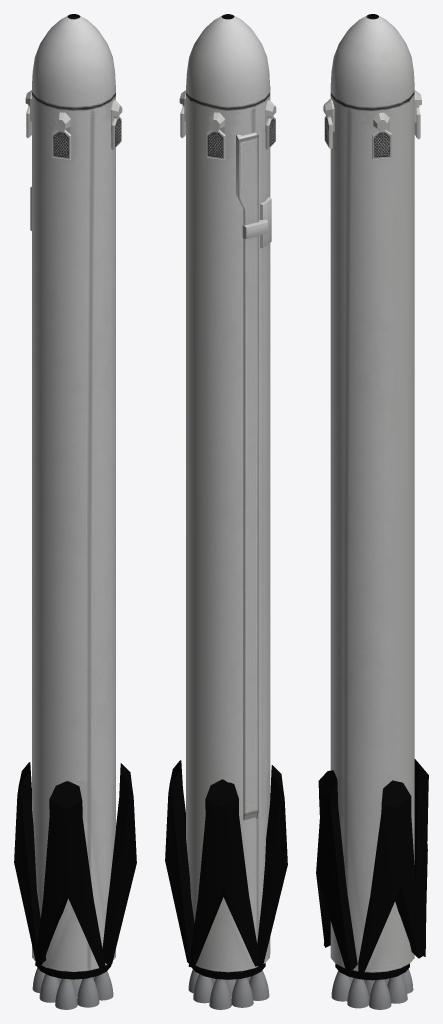
The model's file is falcon-heavy-falcon-heavy-side-left.glb.
The picture shows the model from 3 angles, left to right: view 1: azimuth 30°, elevation 25°; view 2: azimuth 210°, elevation 25°; view 3: azimuth 330°, elevation 25°; orthographic projection.
Parts seen in each view (by area): view 1: side-left; view 2: side-left; view 3: side-left.
Part boxes in pixels (<box>): side-left: <box>14,14,136,1009</box>; side-left: <box>165,14,287,1009</box>; side-left: <box>316,14,428,1009</box>.
Bounding box in the file's own units: 4.55 × 45.57 × 4.47.
Materials: 1 (1 with a texture image).
